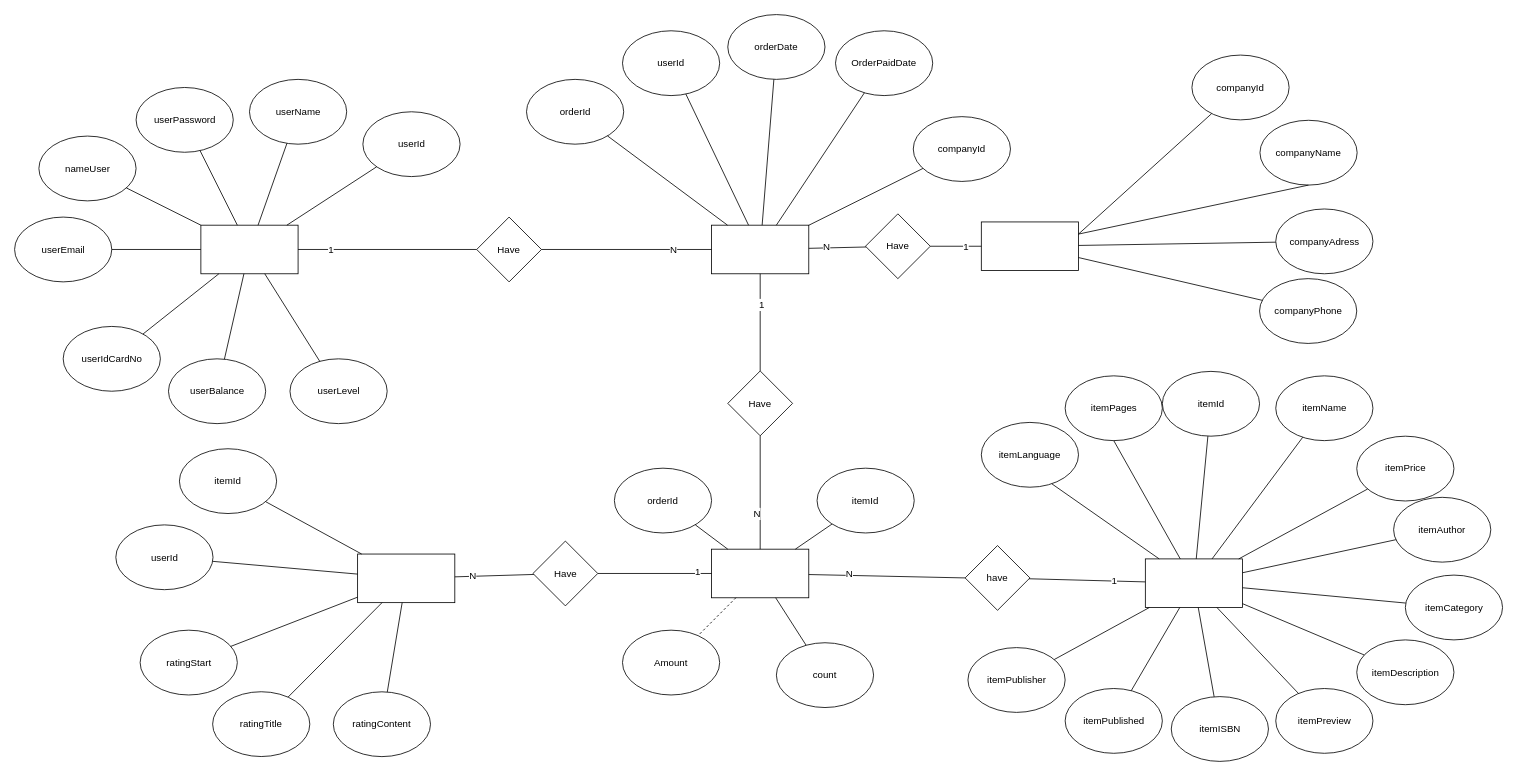
This 1516x775 diagram has some shape labels left out. The centre of each missing label's shape, as x and y in pixels:
"Company" goes at pixel 1030 246.
"Items" goes at pixel 1194 583.
"OrderDetails" goes at pixel 760 573.
"Orders" goes at pixel 760 249.
"Ratings" goes at pixel 406 578.
"User" goes at pixel 249 249.
